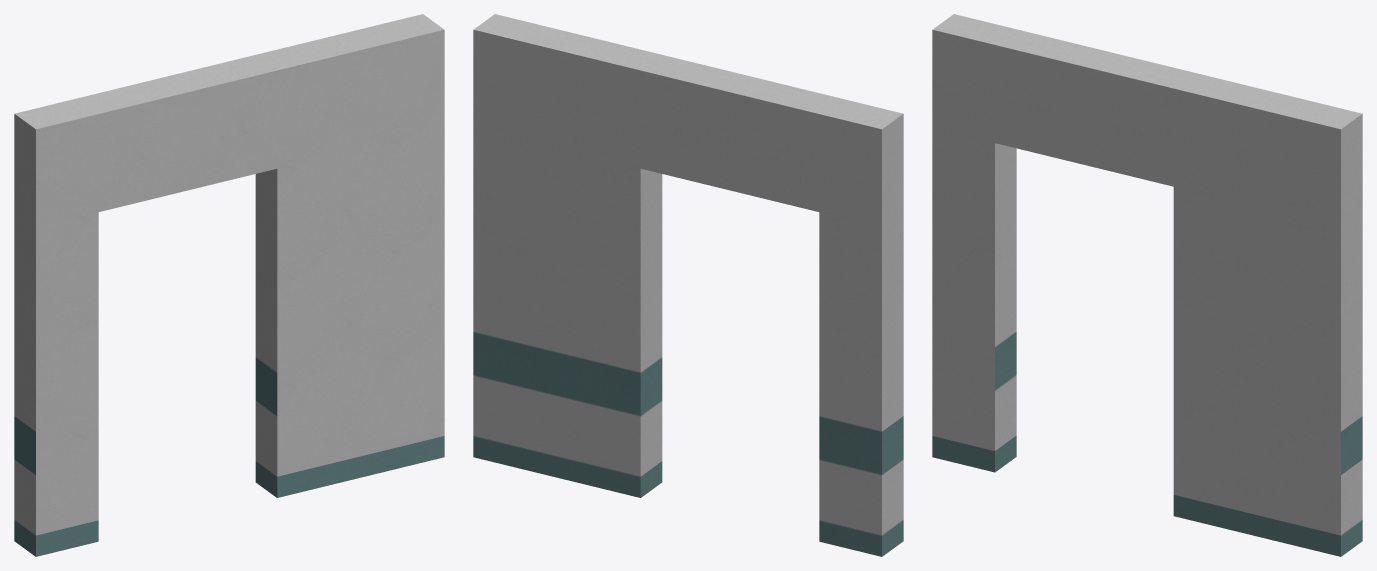
The model's file is wall big door4.FBX.
3 views of the same model, side by side, from view 1: azimuth 30°, elevation 25°; view 2: azimuth 150°, elevation 25°; view 3: azimuth 330°, elevation 25° (orthographic).
Parts seen in each view (by area): view 1: wall big door4; view 2: wall big door4; view 3: wall big door4.
Boxes of the visible parts, bbox=[...] form: wall big door4: bbox=[14, 14, 444, 556]; wall big door4: bbox=[473, 14, 903, 556]; wall big door4: bbox=[932, 14, 1362, 556].
Size of the model in its own units: 110 by 10 by 110.
